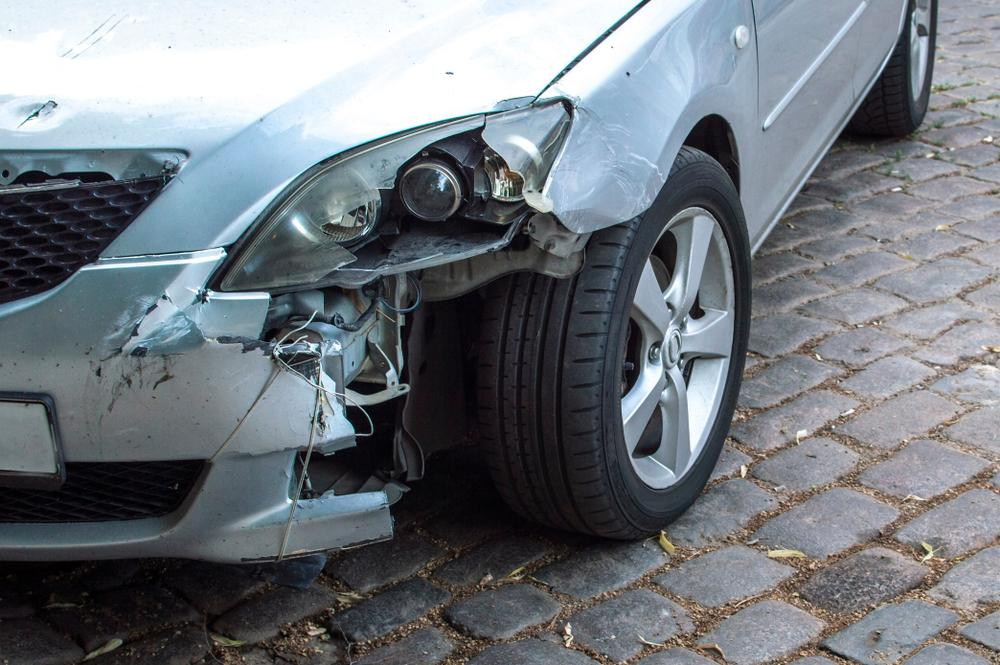dent: (0, 96, 66, 127)
lamp broken: (218, 100, 576, 297)
scratch: (73, 290, 195, 426), (547, 104, 667, 228)
